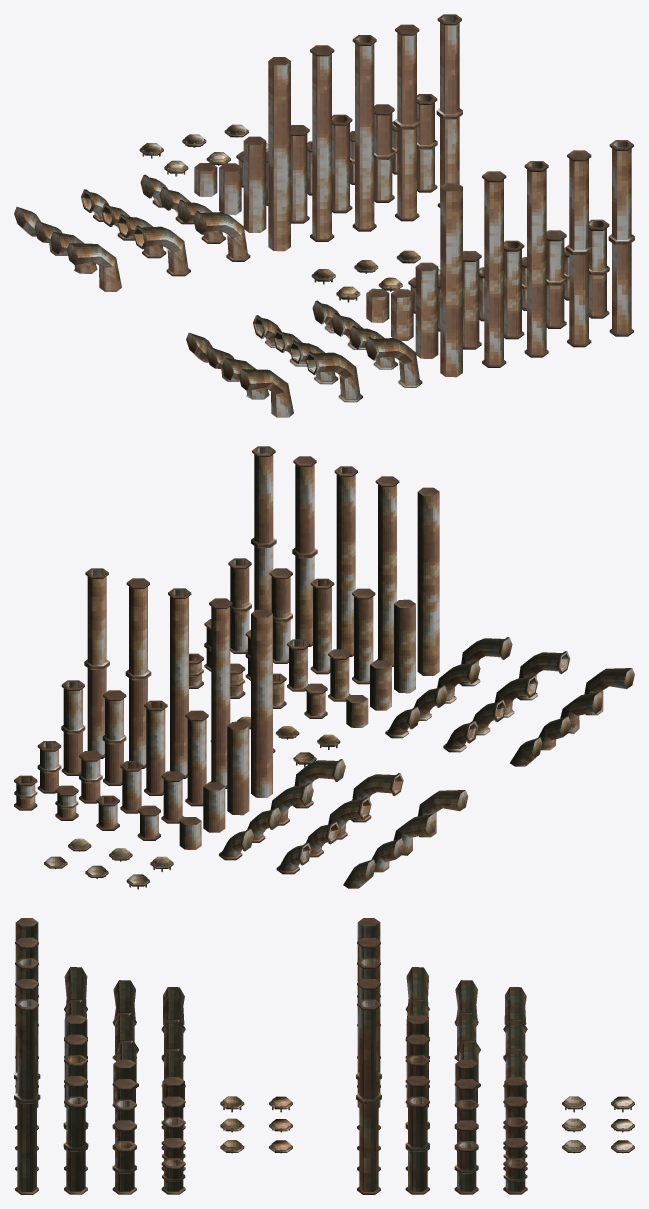
3 views of the same model, one above another, from view 1: azimuth 30°, elevation 25°; view 2: azimuth 150°, elevation 25°; view 3: azimuth 270°, elevation 25° (orthographic). The views are drawn at different scales.
Visible parts, largest first — view 1: BigPipeCol, BigPipeCol.001, BigPipeClosedAlt.001, BigPipeClosedAlt, BigPipeOpenAlt.001, BigPipeClosed, BigPipeOpen, BigPipeOpen.001, BigPipeClosed.001, BigPipeOpenAlt, RegularPipeCol, RegularPipeCol.001 (+24 smaller); view 2: BigPipeCol.001, BigPipeCol, BigPipeClosedAlt.001, BigPipeOpenAlt, BigPipeOpen.001, BigPipeClosed, BigPipeClosedAlt, BigPipeOpen, BigPipeClosed.001, BigPipeOpenAlt.001, RegularPipeCol, RegularPipeCol.001 (+45 smaller); view 3: BigPipeOpenAlt.001, BigPipeOpenAlt, RegularPipeOpenAlt, RegularPipeOpenAlt.001, BigPipeCol, BigPipeCol.001, MediumPipeOpenAlt, MediumPipeOpenAlt.001, RegularPipeCol.001, ShortPipeOpenAlt, ShortPipeOpenAlt.001, CurveMediumCol.001 (+42 smaller).
Boxes of the visible parts, left/top/right/bottom form: BigPipeCol: left=268, top=57, right=290, bottom=251; BigPipeCol.001: left=440, top=182, right=462, bottom=377; BigPipeClosedAlt.001: left=566, top=150, right=592, bottom=347; BigPipeClosedAlt: left=394, top=24, right=420, bottom=221; BigPipeOpenAlt.001: left=608, top=140, right=634, bottom=336; BigPipeClosed: left=310, top=45, right=334, bottom=241; BigPipeOpen: left=352, top=35, right=376, bottom=231; BigPipeOpen.001: left=524, top=161, right=548, bottom=357; BigPipeClosed.001: left=482, top=171, right=506, bottom=367; BigPipeOpenAlt: left=436, top=14, right=462, bottom=207; RegularPipeCol: left=243, top=136, right=266, bottom=232; RegularPipeCol.001: left=415, top=262, right=438, bottom=358; BigPipeCol.001: left=417, top=487, right=439, bottom=675; BigPipeCol: left=251, top=609, right=272, bottom=797; BigPipeClosedAlt.001: left=292, top=456, right=317, bottom=646; BigPipeOpenAlt: left=84, top=568, right=109, bottom=758; BigPipeOpen.001: left=334, top=466, right=357, bottom=656; BigPipeClosed: left=209, top=598, right=232, bottom=788; BigPipeClosedAlt: left=125, top=578, right=151, bottom=768; BigPipeOpen: left=168, top=588, right=191, bottom=778; BigPipeClosed.001: left=375, top=476, right=399, bottom=666; BigPipeOpenAlt.001: left=251, top=446, right=276, bottom=612; RegularPipeCol: left=227, top=721, right=249, bottom=815; RegularPipeCol.001: left=394, top=599, right=415, bottom=693; BigPipeOpenAlt.001: left=14, top=999, right=40, bottom=1194; BigPipeOpenAlt: left=356, top=999, right=381, bottom=1194; RegularPipeOpenAlt: left=405, top=1096, right=429, bottom=1194; RegularPipeOpenAlt.001: left=63, top=1096, right=88, bottom=1194; BigPipeCol: left=357, top=918, right=380, bottom=1107; BigPipeCol.001: left=15, top=918, right=38, bottom=1107; MediumPipeOpenAlt: left=454, top=1141, right=478, bottom=1194; MediumPipeOpenAlt.001: left=112, top=1141, right=136, bottom=1194; RegularPipeCol.001: left=64, top=1015, right=87, bottom=1107; ShortPipeOpenAlt: left=503, top=1158, right=527, bottom=1194; ShortPipeOpenAlt.001: left=161, top=1158, right=185, bottom=1194; CurveMediumCol.001: left=64, top=967, right=87, bottom=1018.
Size of what is drawn, in the model's own units: 45.53 by 21.09 by 63.58.
Materials: 2 (2 with a texture image).
